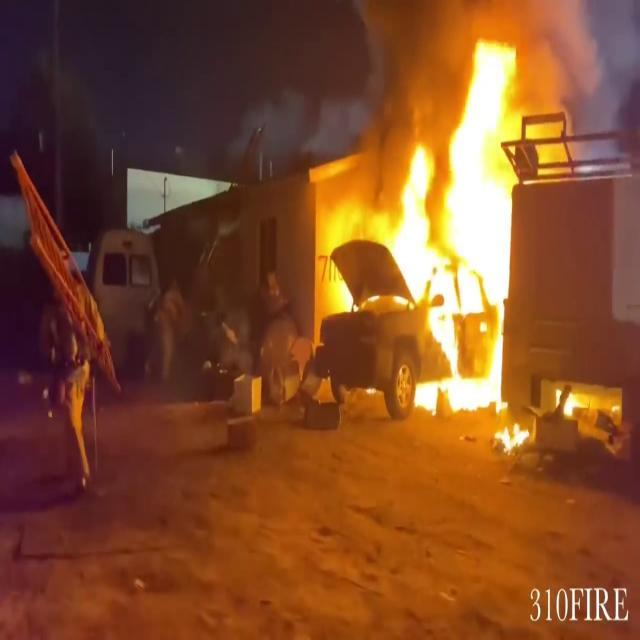Fire: (383, 28, 528, 414), (549, 379, 624, 422), (490, 416, 537, 462)
